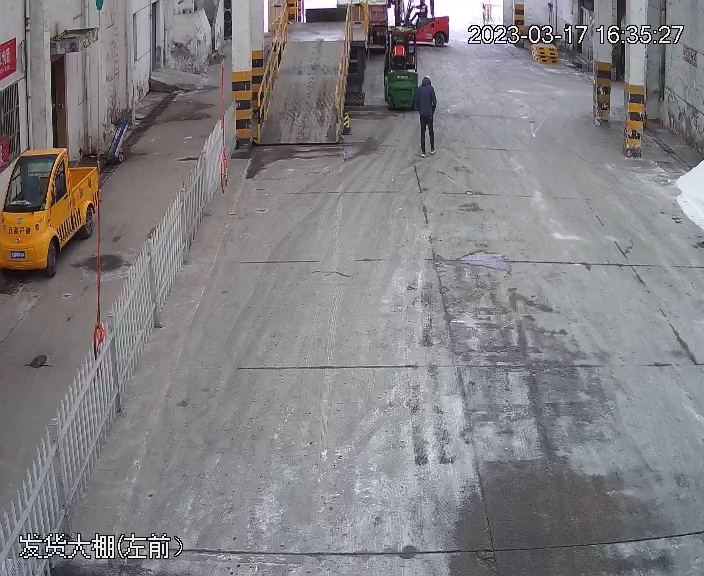head: (416, 73, 434, 93)
people: (415, 70, 437, 157)
